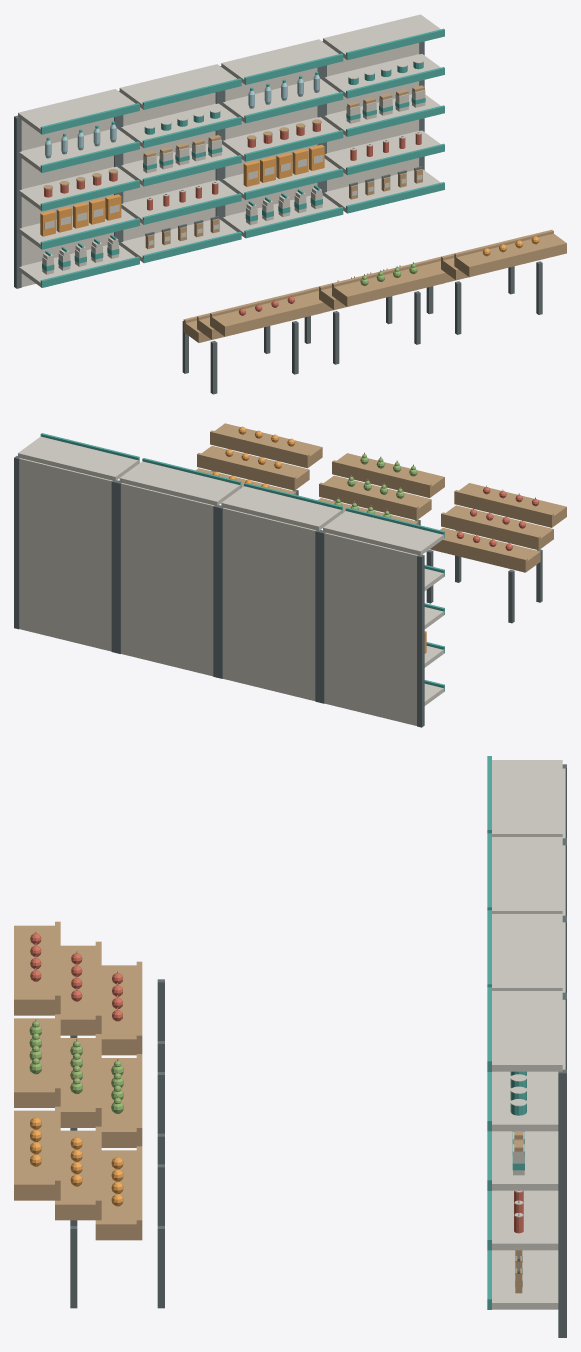
File: supermarket-operations-stocked-grocery-a-3ac21761-starter-scene.glb
The picture shows the model from 3 angles, top to bottom: view 1: azimuth 30°, elevation 25°; view 2: azimuth 150°, elevation 25°; view 3: azimuth 270°, elevation 25°; orthographic projection. The views are drawn at different scales.
Visible parts, largest first — view 1: 063-single-sided-gondola/0, 021-single-sided-gondola/0, 000-single-sided-gondola/0, 042-single-sided-gondola/0, 000-single-sided-gondola/2, 021-single-sided-gondola/2, 042-single-sided-gondola/2, 063-single-sided-gondola/2, 084-produce-tilt-bin/1, 110-produce-tilt-bin/1, 097-produce-tilt-bin/1, 000-single-sided-gondola/1 (+5 smaller); view 2: 000-single-sided-gondola/0, 021-single-sided-gondola/0, 042-single-sided-gondola/0, 063-single-sided-gondola/0, 084-produce-tilt-bin/1, 110-produce-tilt-bin/1, 097-produce-tilt-bin/1, 000-single-sided-gondola/1, 063-single-sided-gondola/1, 042-single-sided-gondola/1, 021-single-sided-gondola/1, 084-produce-tilt-bin/0 (+4 smaller); view 3: 063-single-sided-gondola/0, 110-produce-tilt-bin/1, 084-produce-tilt-bin/1, 097-produce-tilt-bin/1, 021-single-sided-gondola/0, 042-single-sided-gondola/0, 000-single-sided-gondola/0, 063-single-sided-gondola/1, 110-produce-tilt-bin/0, 063-single-sided-gondola/2, 084-produce-tilt-bin/0, 097-produce-tilt-bin/0.
Part boxes in pixels (x1,y1,x2,y2): 063-single-sided-gondola/0: (323, 14, 440, 212); 021-single-sided-gondola/0: (119, 64, 236, 262); 000-single-sided-gondola/0: (18, 89, 135, 287); 042-single-sided-gondola/0: (221, 39, 338, 237); 000-single-sided-gondola/2: (40, 103, 139, 287); 021-single-sided-gondola/2: (142, 78, 241, 263); 042-single-sided-gondola/2: (244, 53, 343, 238); 063-single-sided-gondola/2: (346, 28, 444, 213); 084-produce-tilt-bin/1: (183, 289, 322, 342); 110-produce-tilt-bin/1: (430, 229, 566, 282); 097-produce-tilt-bin/1: (308, 259, 444, 312); 000-single-sided-gondola/1: (14, 115, 119, 288); 000-single-sided-gondola/0: (323, 511, 444, 725); 021-single-sided-gondola/0: (221, 486, 342, 700); 042-single-sided-gondola/0: (119, 461, 240, 676); 063-single-sided-gondola/0: (18, 436, 138, 651); 084-produce-tilt-bin/1: (430, 483, 566, 572); 110-produce-tilt-bin/1: (196, 423, 322, 494); 097-produce-tilt-bin/1: (318, 453, 444, 524); 000-single-sided-gondola/1: (319, 530, 424, 727); 063-single-sided-gondola/1: (14, 456, 118, 652); 042-single-sided-gondola/1: (115, 480, 220, 677); 021-single-sided-gondola/1: (217, 505, 321, 702); 084-produce-tilt-bin/0: (426, 530, 542, 623); 063-single-sided-gondola/0: (492, 991, 565, 1309); 110-produce-tilt-bin/1: (14, 1106, 142, 1240); 084-produce-tilt-bin/1: (14, 921, 142, 1055); 097-produce-tilt-bin/1: (14, 1014, 142, 1147); 021-single-sided-gondola/0: (492, 837, 565, 915); 042-single-sided-gondola/0: (492, 914, 565, 992); 000-single-sided-gondola/0: (492, 760, 565, 838); 063-single-sided-gondola/1: (558, 996, 566, 1337); 110-produce-tilt-bin/0: (70, 1164, 164, 1308); 063-single-sided-gondola/2: (487, 987, 491, 1309); 084-produce-tilt-bin/0: (70, 979, 164, 1071); 097-produce-tilt-bin/0: (70, 1072, 164, 1164).
Size of the model in its own units: 5.01 by 2.08 by 3.79.
